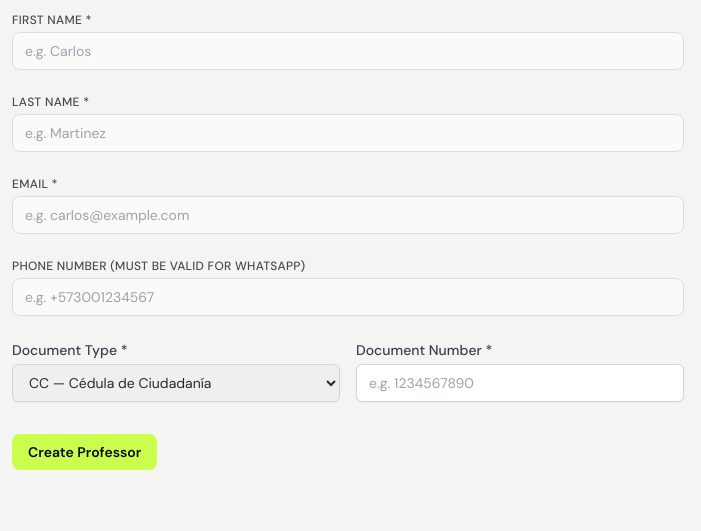
Test case: ProfessorForm (create mode) › validates lastName is required on submit
Type "Carlos" into the field labelled "First Name *" at (348, 51), box [12,32,684,70]
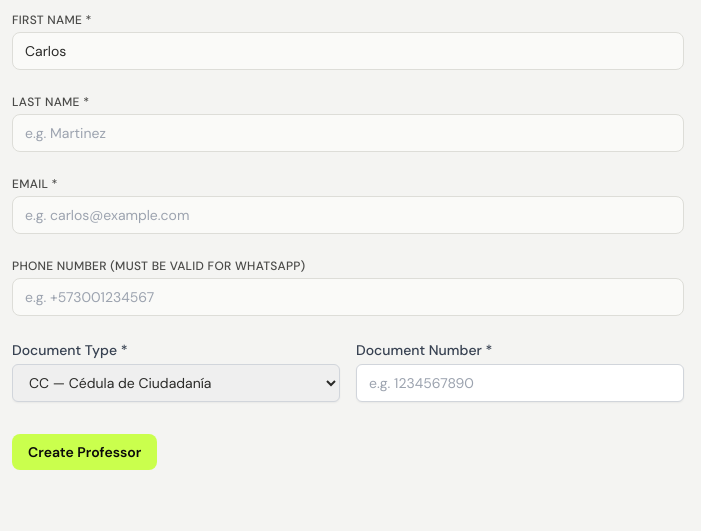
Type "carlos@example.com" into the field labelled "Email *" at (348, 215), box [12,196,684,234]
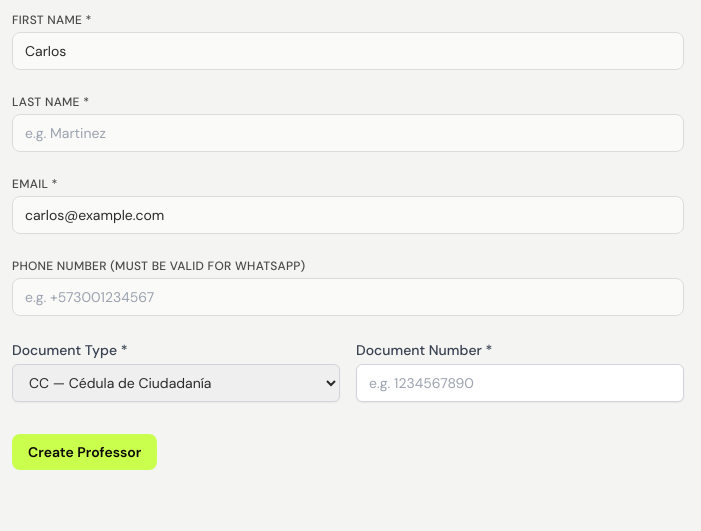
Click the button "Create Professor" at (85, 452), box [12,434,157,470]
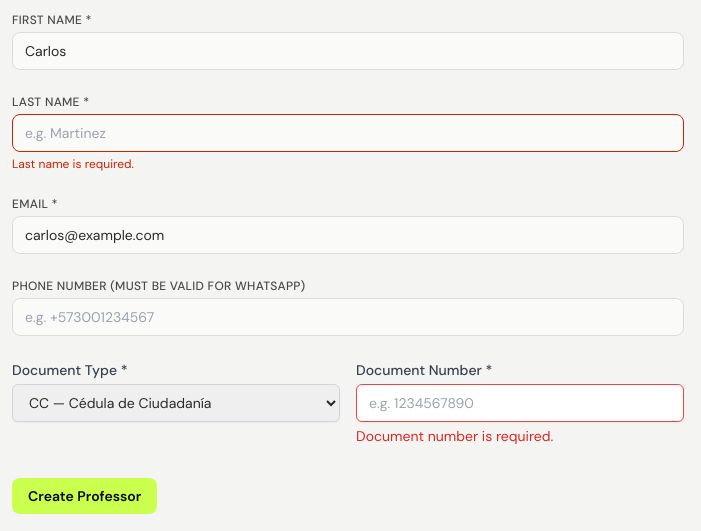
Result: the text "Last name is required." is shown at [12,156,134,172]
